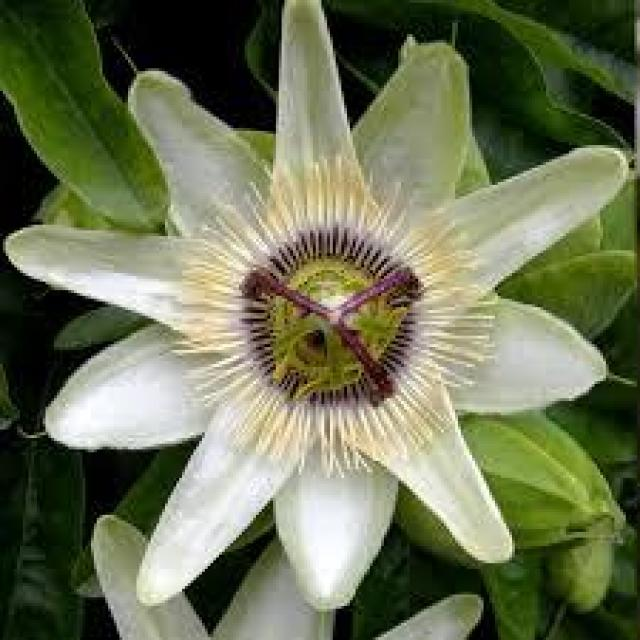organic waste: (24, 28, 622, 589)
